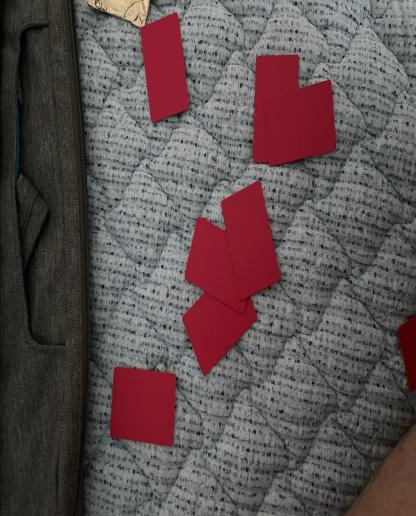ThreeHwatoo: (156, 171, 288, 378)
